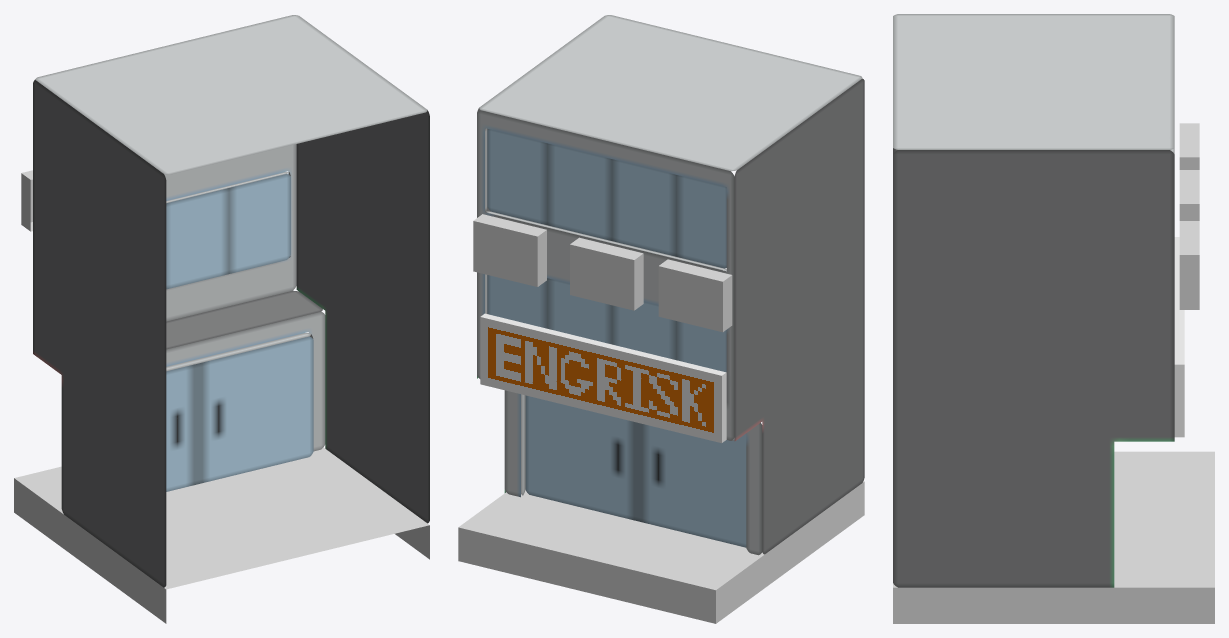
The model's file is House 6.fbx.
3 views of the same model, side by side, from view 1: azimuth 30°, elevation 25°; view 2: azimuth 150°, elevation 25°; view 3: azimuth 270°, elevation 25° (orthographic). The views are drawn at different scales.
Visible parts, largest first — view 1: House 1, SideRoad, AC_2; view 2: House 1, SideRoad, Banner, AC_2, AC, AC_1; view 3: House 1, SideRoad, AC, Banner, AC_1, AC_2.
Part boxes in pixels (x1,y1,x2,y2): House 1: (33, 15, 429, 587); SideRoad: (14, 447, 429, 623); AC_2: (21, 170, 32, 231); House 1: (477, 15, 864, 555); SideRoad: (458, 481, 864, 623); Banner: (480, 313, 726, 443); AC_2: (658, 259, 732, 332); AC: (473, 214, 546, 286); AC_1: (570, 237, 643, 310); House 1: (893, 14, 1174, 587); SideRoad: (893, 451, 1214, 623); AC: (1179, 221, 1199, 309); Banner: (1174, 237, 1184, 437); AC_1: (1179, 170, 1199, 220); AC_2: (1179, 123, 1199, 169).
Size of the model in its own units: 200 by 325 by 200.
2 materials, 2 textured.
